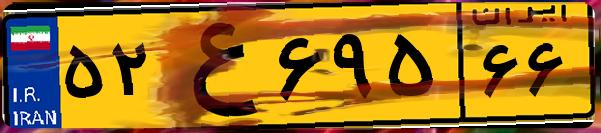2: (110, 28, 158, 98)
5: (385, 28, 445, 110), (57, 26, 110, 100)
6: (270, 28, 330, 110), (475, 38, 525, 113), (525, 38, 570, 115)
9: (330, 28, 385, 110)
ع: (158, 12, 270, 120)
